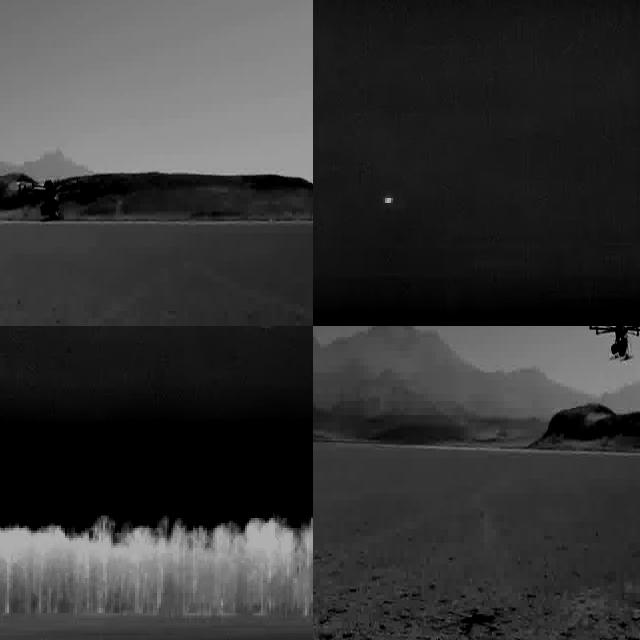1: (378, 189, 406, 217), (253, 326, 287, 345)
drone: (14, 178, 80, 216), (584, 326, 640, 366)
